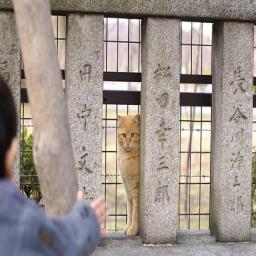catnose: (126, 142, 130, 146)
